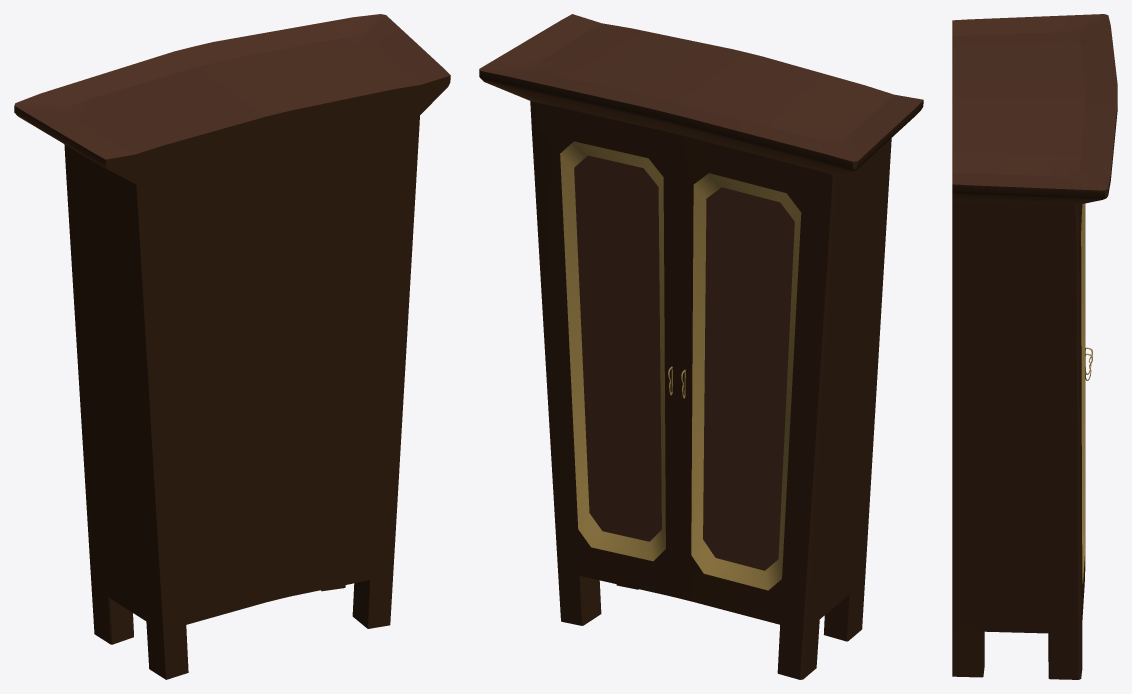
File: BedroomArmoire.fbx
3 renders of one model, left to right at view 1: azimuth 30°, elevation 25°; view 2: azimuth 150°, elevation 25°; view 3: azimuth 270°, elevation 25°, orthographic. The views are drawn at different scales.
Visible parts, largest first — view 1: ArmoireUVd:polySurface23; view 2: ArmoireUVd:polySurface23; view 3: ArmoireUVd:polySurface23.
Part boxes in pixels (x1,y1,x2,y2): ArmoireUVd:polySurface23: (14,14,450,679); ArmoireUVd:polySurface23: (479,14,923,679); ArmoireUVd:polySurface23: (952,14,1117,679).
Bounding box in the file's own units: 160 × 224 × 63.44.
